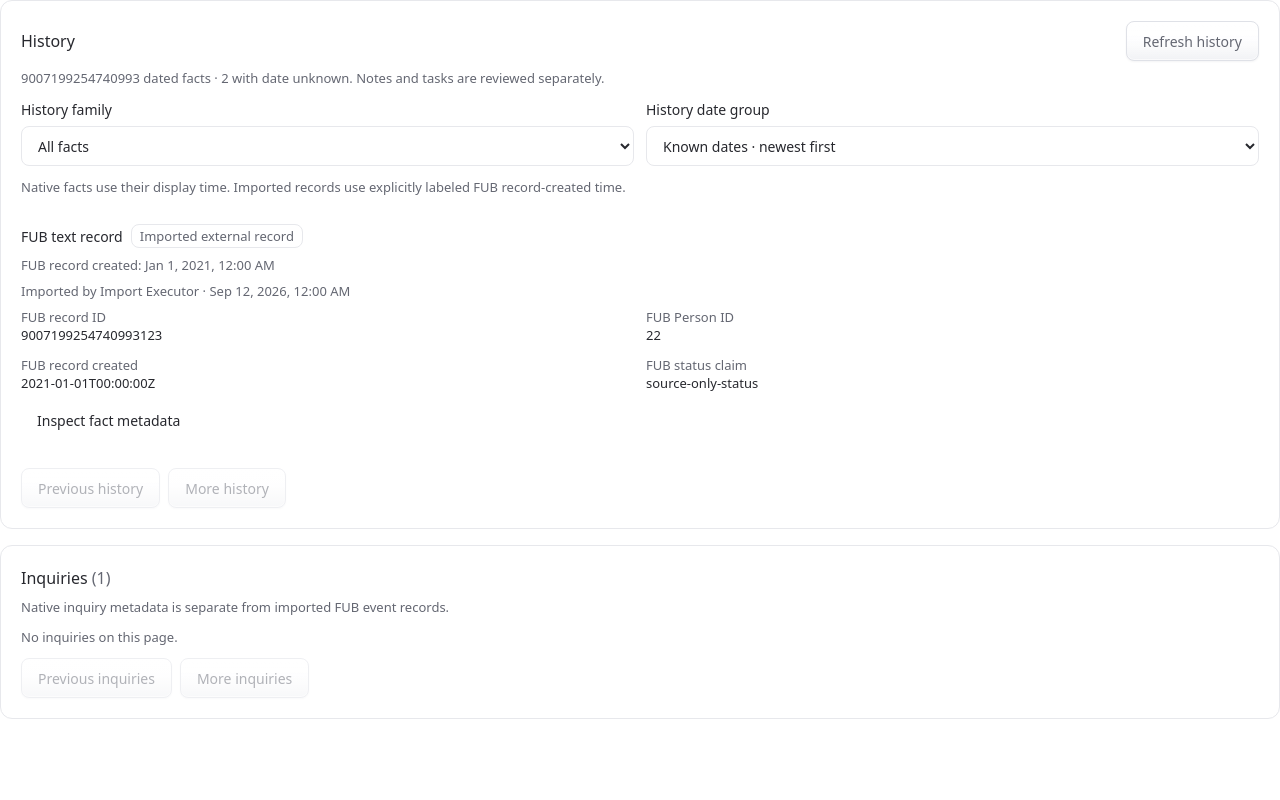
Scenario: bounded historical Person review › keeps old pages hidden after a failed core refresh, including filter changes, until a successful retry
Click the button "Refresh history" at coordinates (1192, 41), box x1=1126 y1=21 x2=1259 y2=61
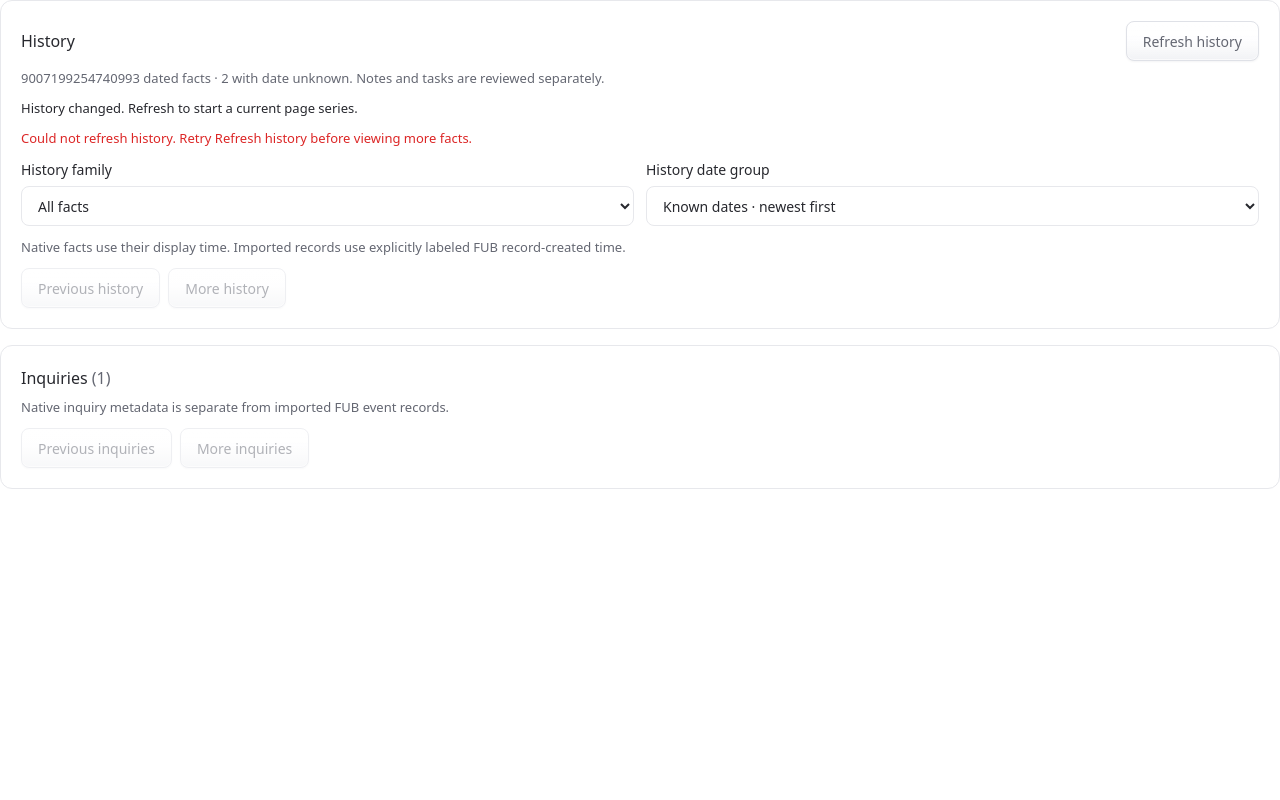
Result: the text "Could not refresh history" is shown at x1=21 y1=129 x2=472 y2=147
Result: the text "source-only-status" is gone
Select "FUB calls" in the dropdown labelled "History family" at coordinates (328, 206), box x1=21 y1=186 x2=634 y2=226
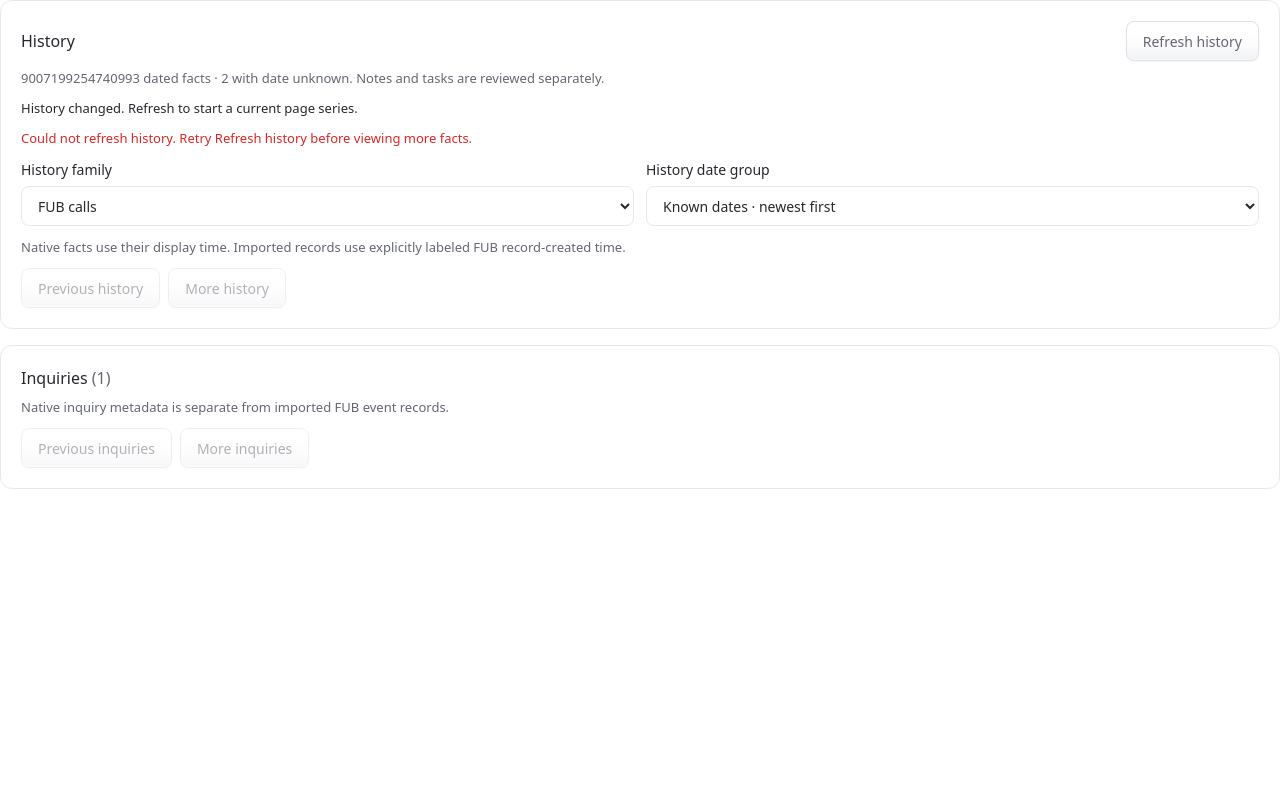
Expected: the button "More history" is disabled, x1=168 y1=268 x2=286 y2=308
Click the button "Refresh history" at coordinates (1192, 41), box x1=1126 y1=21 x2=1259 y2=61
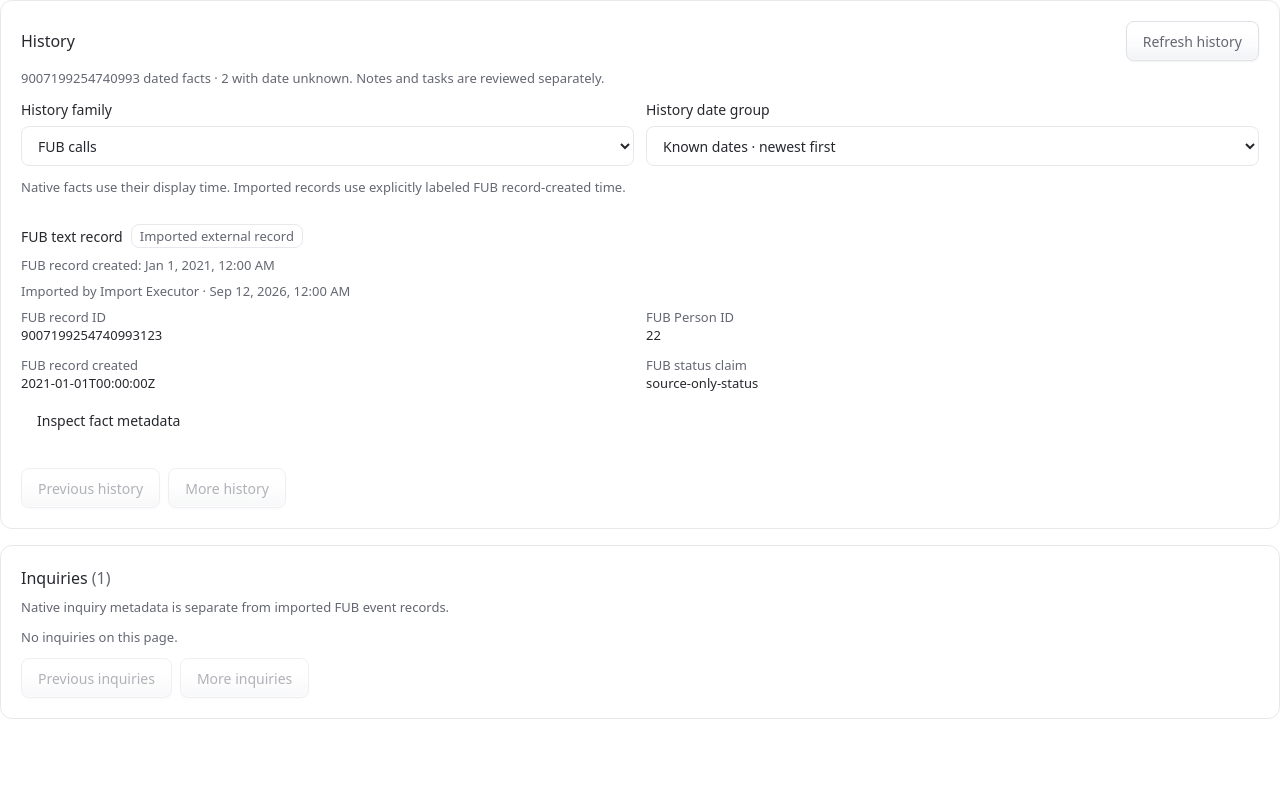
Result: the text "source-only-status" is shown at x1=646 y1=374 x2=758 y2=392
Result: the text "Could not refresh history" is gone
